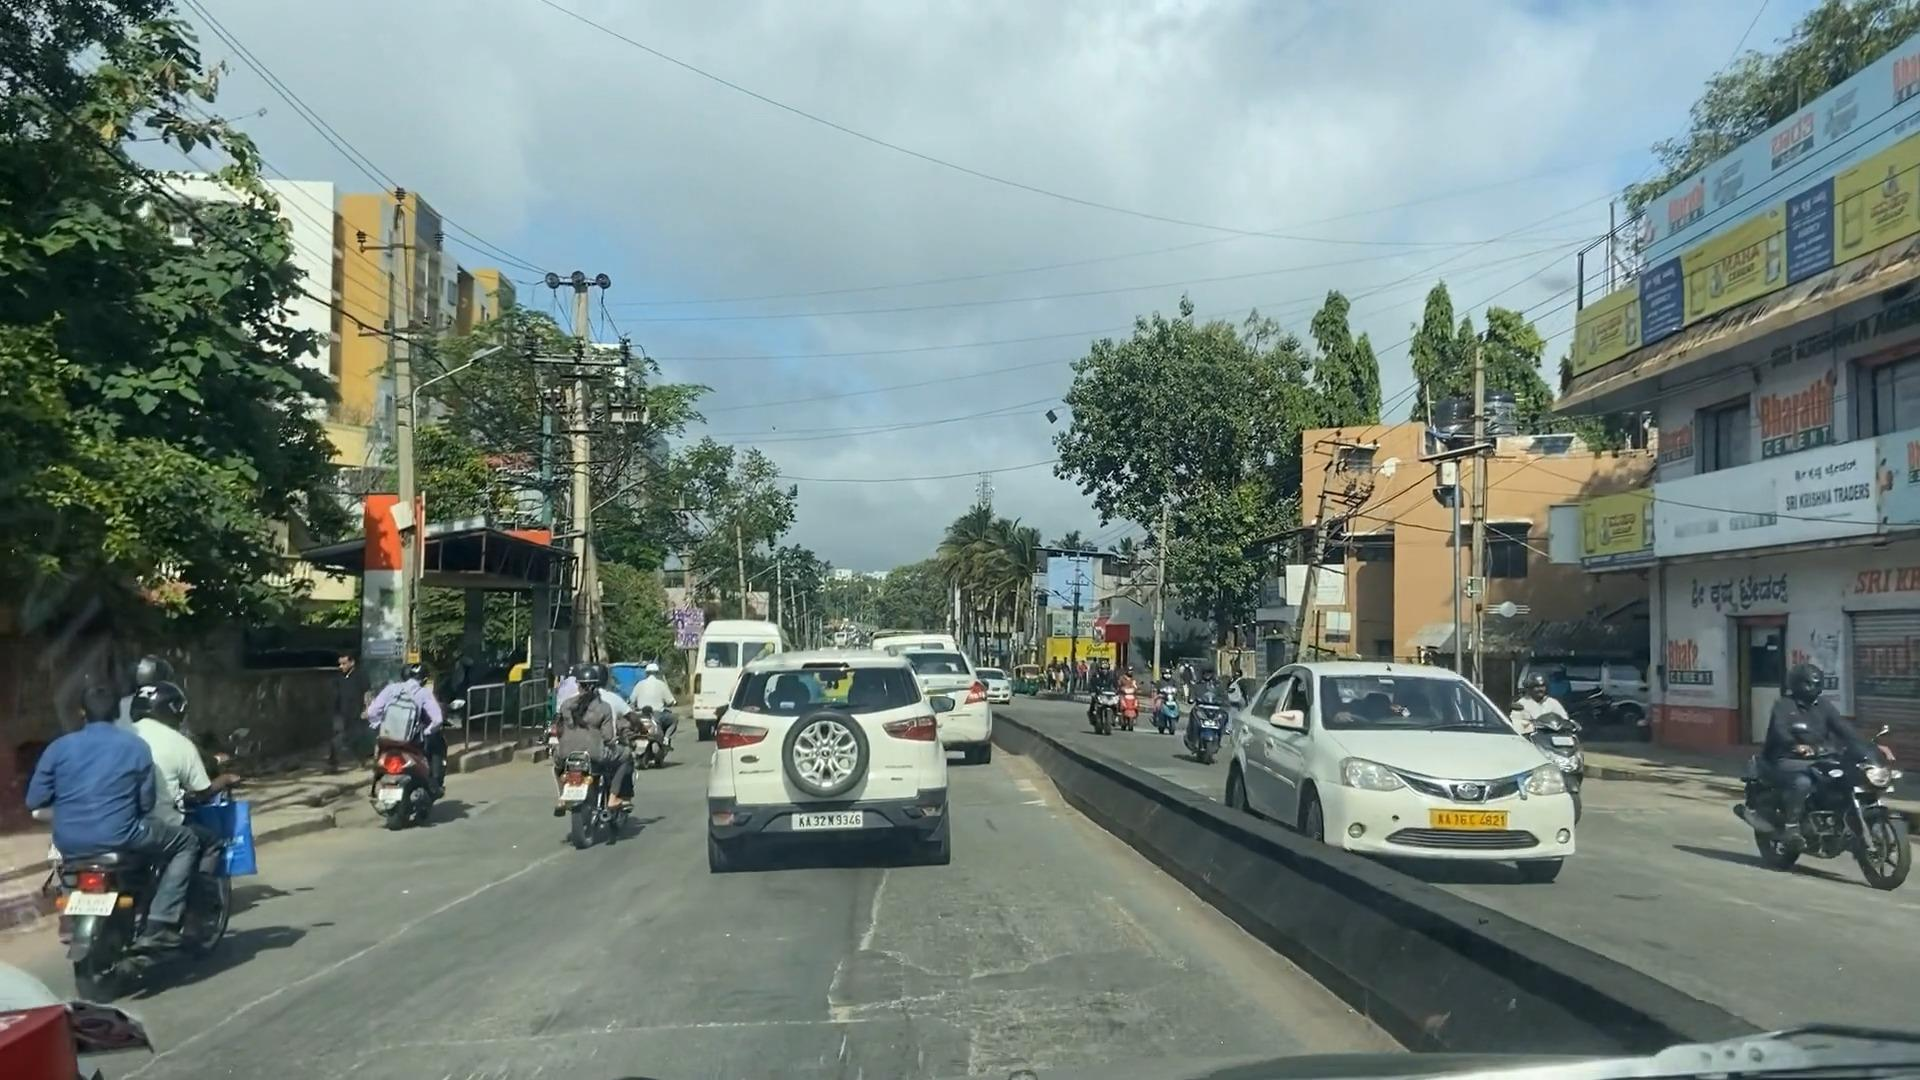LMV: (34, 694, 236, 963), (712, 661, 945, 869), (558, 661, 640, 841), (360, 676, 448, 825)
RoadDamages: (200, 845, 560, 1044), (818, 862, 978, 1080), (533, 1006, 843, 1047)
UnsurfacedRoad: (984, 870, 1126, 1073)
